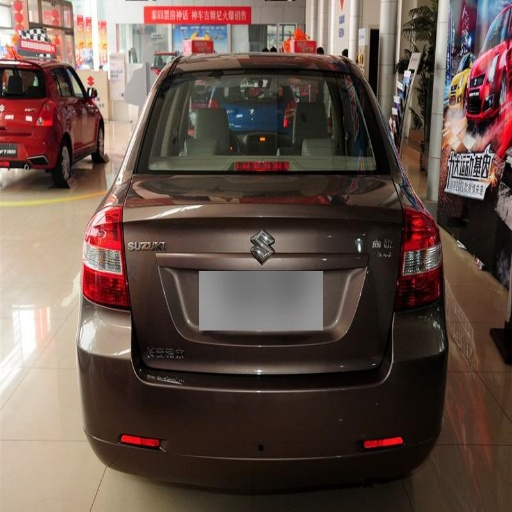_background_: (123, 305, 401, 386)
back_bumper: (82, 301, 447, 507)
